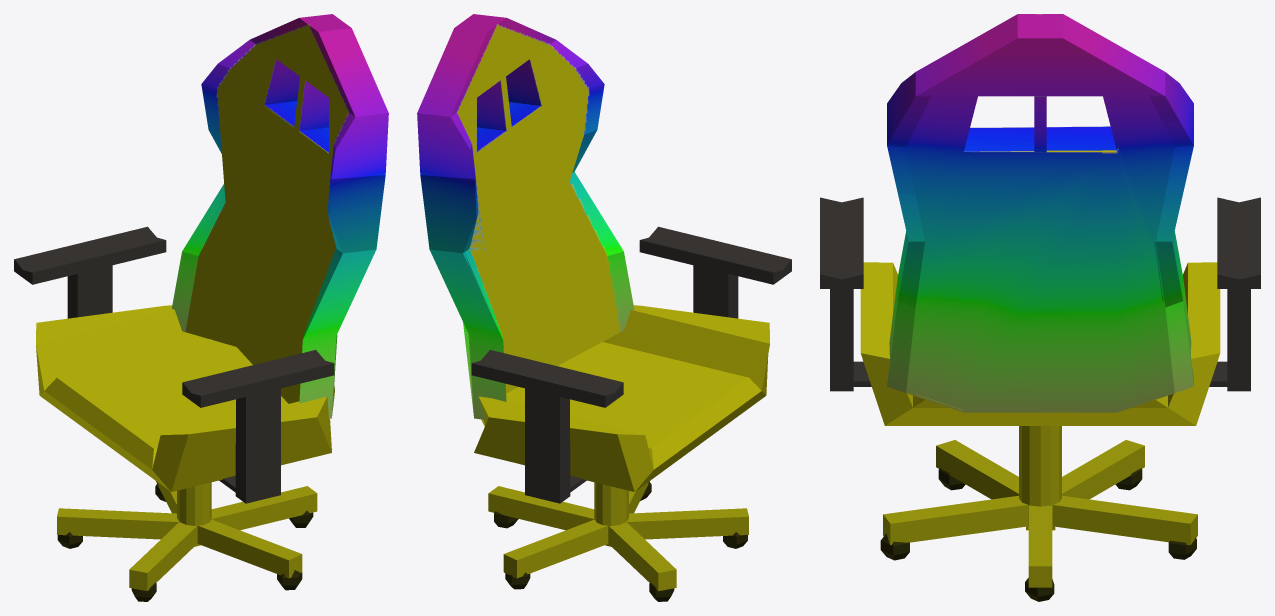
File: chairGold.fbx
The picture shows the model from 3 angles, left to right: view 1: azimuth 30°, elevation 25°; view 2: azimuth 150°, elevation 25°; view 3: azimuth 270°, elevation 25°; orthographic projection. The views are drawn at different scales.
Parts seen in each view (by area): view 1: Chair; view 2: Chair; view 3: Chair.
Part boxes in pixels (x1=…): Chair: x1=14, y1=14, x2=388, y2=601; Chair: x1=417, y1=14, x2=791, y2=601; Chair: x1=820, y1=14, x2=1260, y2=601.
Size of the model in its own units: 2.21 by 2.87 by 4.25.
